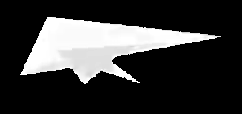Plane: (6, 13, 230, 89)
